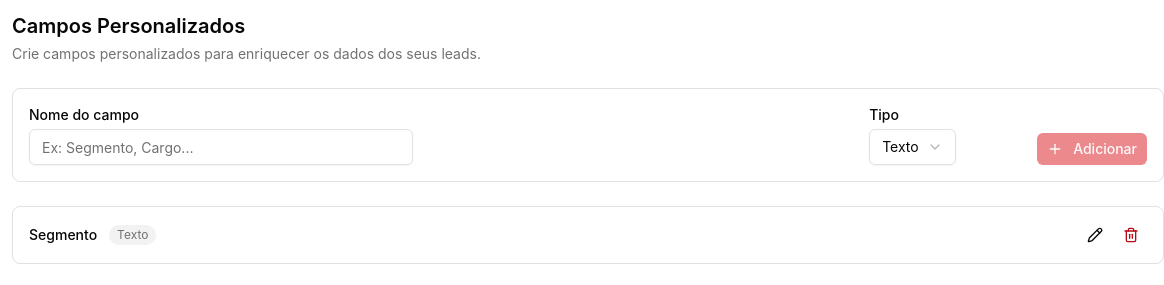
Test case: CustomFieldsSettings › should enter edit mode
Click the 2nd button at (1095, 235), box [1079,219,1111,251]
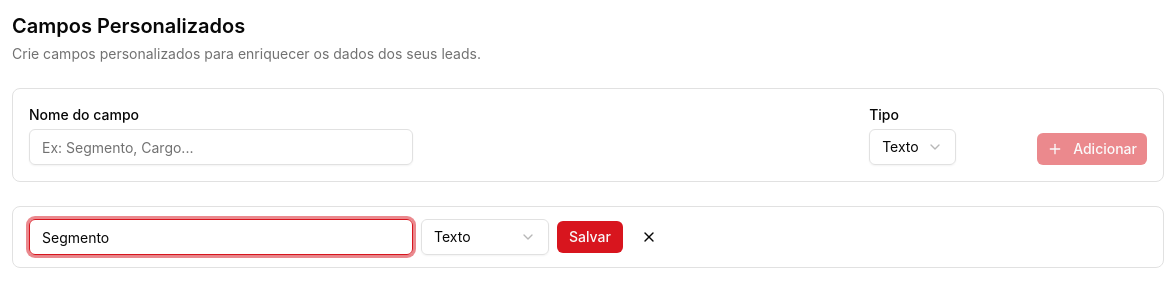
Now the button "Salvar" is shown, box [557,221,623,253]
